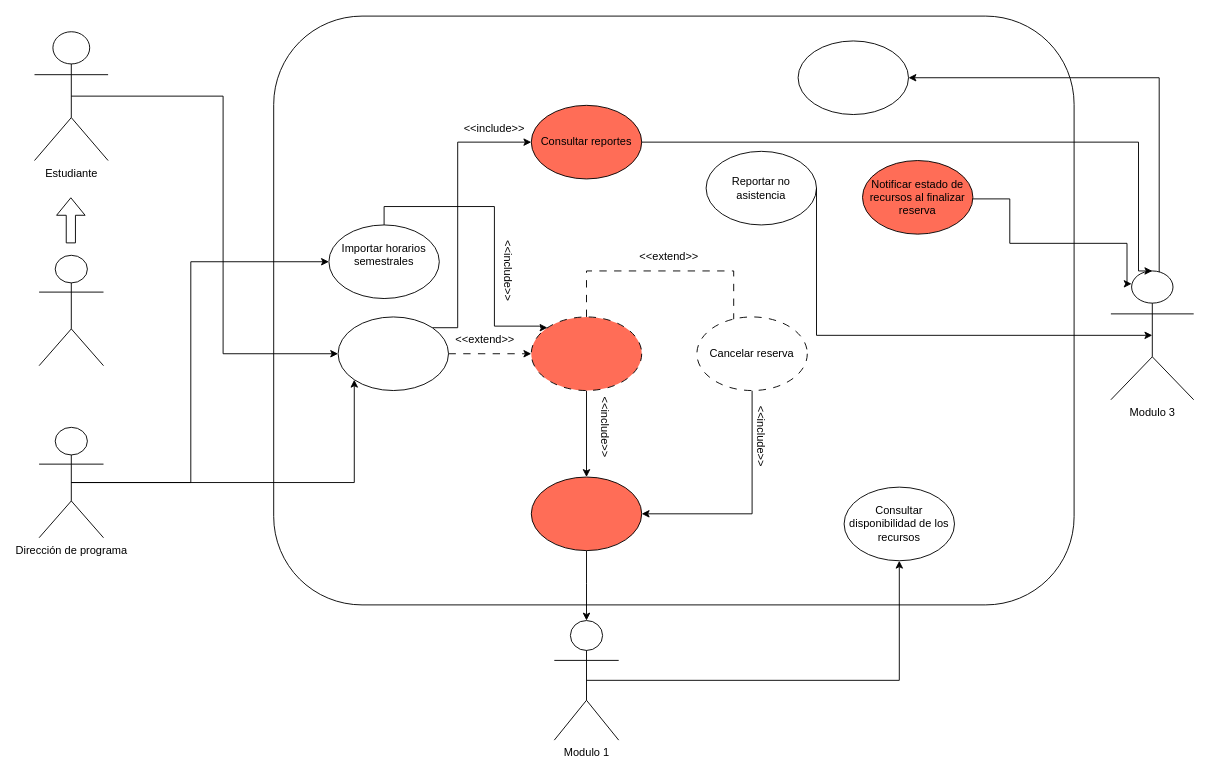
Image size: 1210x776. Some labels were removed from this diagram. The centre of each missing label's shape, as x and y in pixels:
Actualizar estado de los recursos: the point at 586,513
Consultar recursos: the point at 392,353
Monitor: the point at 71,310
Reportar fecha y hora de entrega: the point at 852,77
Reservar recursos: the point at 586,353
